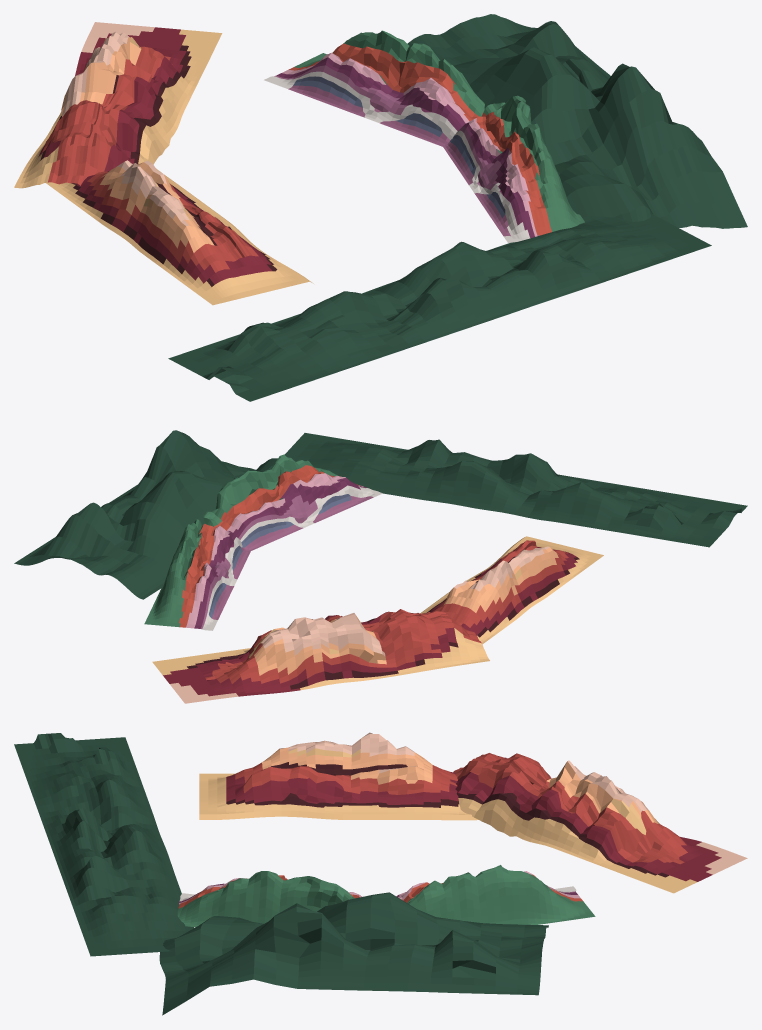
The model's file is Cerros3.fbx.
3 views of the same model, one above another, from view 1: azimuth 30°, elevation 25°; view 2: azimuth 150°, elevation 25°; view 3: azimuth 270°, elevation 25° (orthographic). The views are drawn at different scales.
Visible parts, largest first — view 1: CerroNormal1, CerroNormal2, CerroHornocal2, CerroHornocal1, CerroSiete1, CerroSiete1.001; view 2: CerroNormal1, CerroHornocal2, CerroNormal2, CerroSiete1.001, CerroHornocal1, CerroSiete1; view 3: CerroNormal2, CerroNormal1, CerroHornocal2, CerroHornocal1, CerroSiete1, CerroSiete1.001.
Part boxes in pixels (bbox=[...]): CerroNormal1: bbox=[168, 214, 711, 401]; CerroNormal2: bbox=[407, 14, 747, 228]; CerroHornocal2: bbox=[14, 22, 222, 188]; CerroHornocal1: bbox=[46, 160, 313, 305]; CerroSiete1: bbox=[264, 30, 484, 146]; CerroSiete1.001: bbox=[442, 95, 584, 242]; CerroNormal1: bbox=[284, 433, 747, 547]; CerroHornocal2: bbox=[152, 609, 489, 703]; CerroNormal2: bbox=[14, 430, 277, 599]; CerroSiete1.001: bbox=[203, 454, 382, 551]; CerroHornocal1: bbox=[420, 536, 603, 644]; CerroSiete1: bbox=[144, 519, 250, 630]; CerroNormal2: bbox=[159, 892, 548, 1015]; CerroNormal1: bbox=[14, 733, 193, 956]; CerroHornocal2: bbox=[453, 753, 747, 893]; CerroHornocal1: bbox=[199, 732, 478, 820]; CerroSiete1: bbox=[396, 865, 595, 924]; CerroSiete1.001: bbox=[177, 871, 362, 927].
Size of the model in its own units: 131731 by 22679 by 156283.
